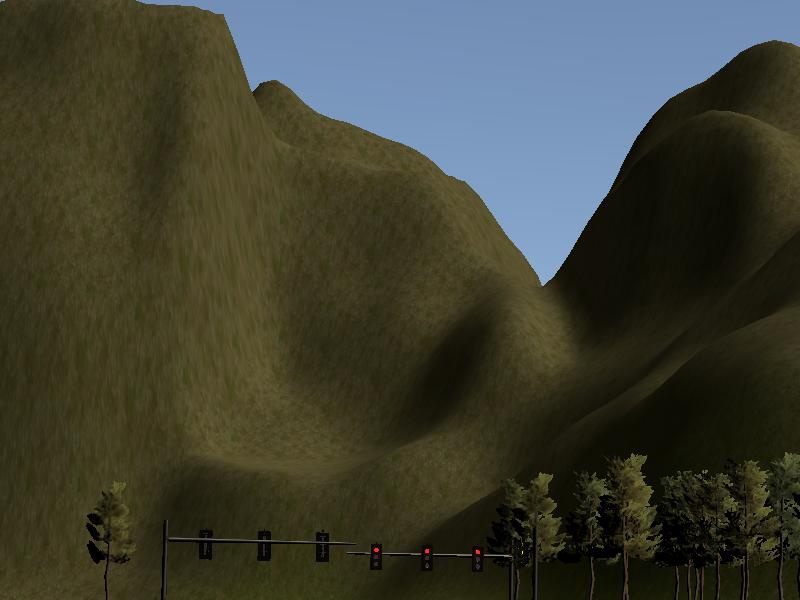Red: (369, 543, 383, 571), (421, 544, 433, 571), (473, 546, 483, 571)
